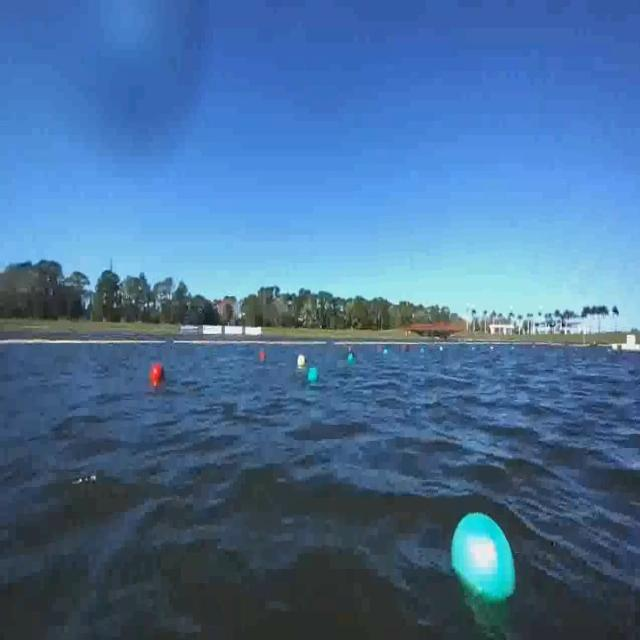green-buoy: (443, 508, 517, 610), (308, 365, 319, 380)
red-buoy: (150, 362, 167, 386), (258, 351, 266, 361)
yellow-buoy: (296, 353, 306, 368)
